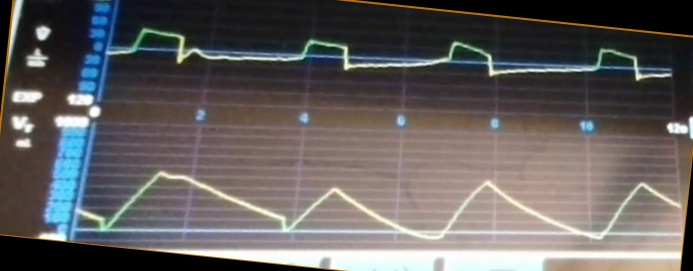Premature_cycling Flow: (114, 26, 671, 107)
Premature_cycling Volume: (79, 166, 676, 240)
